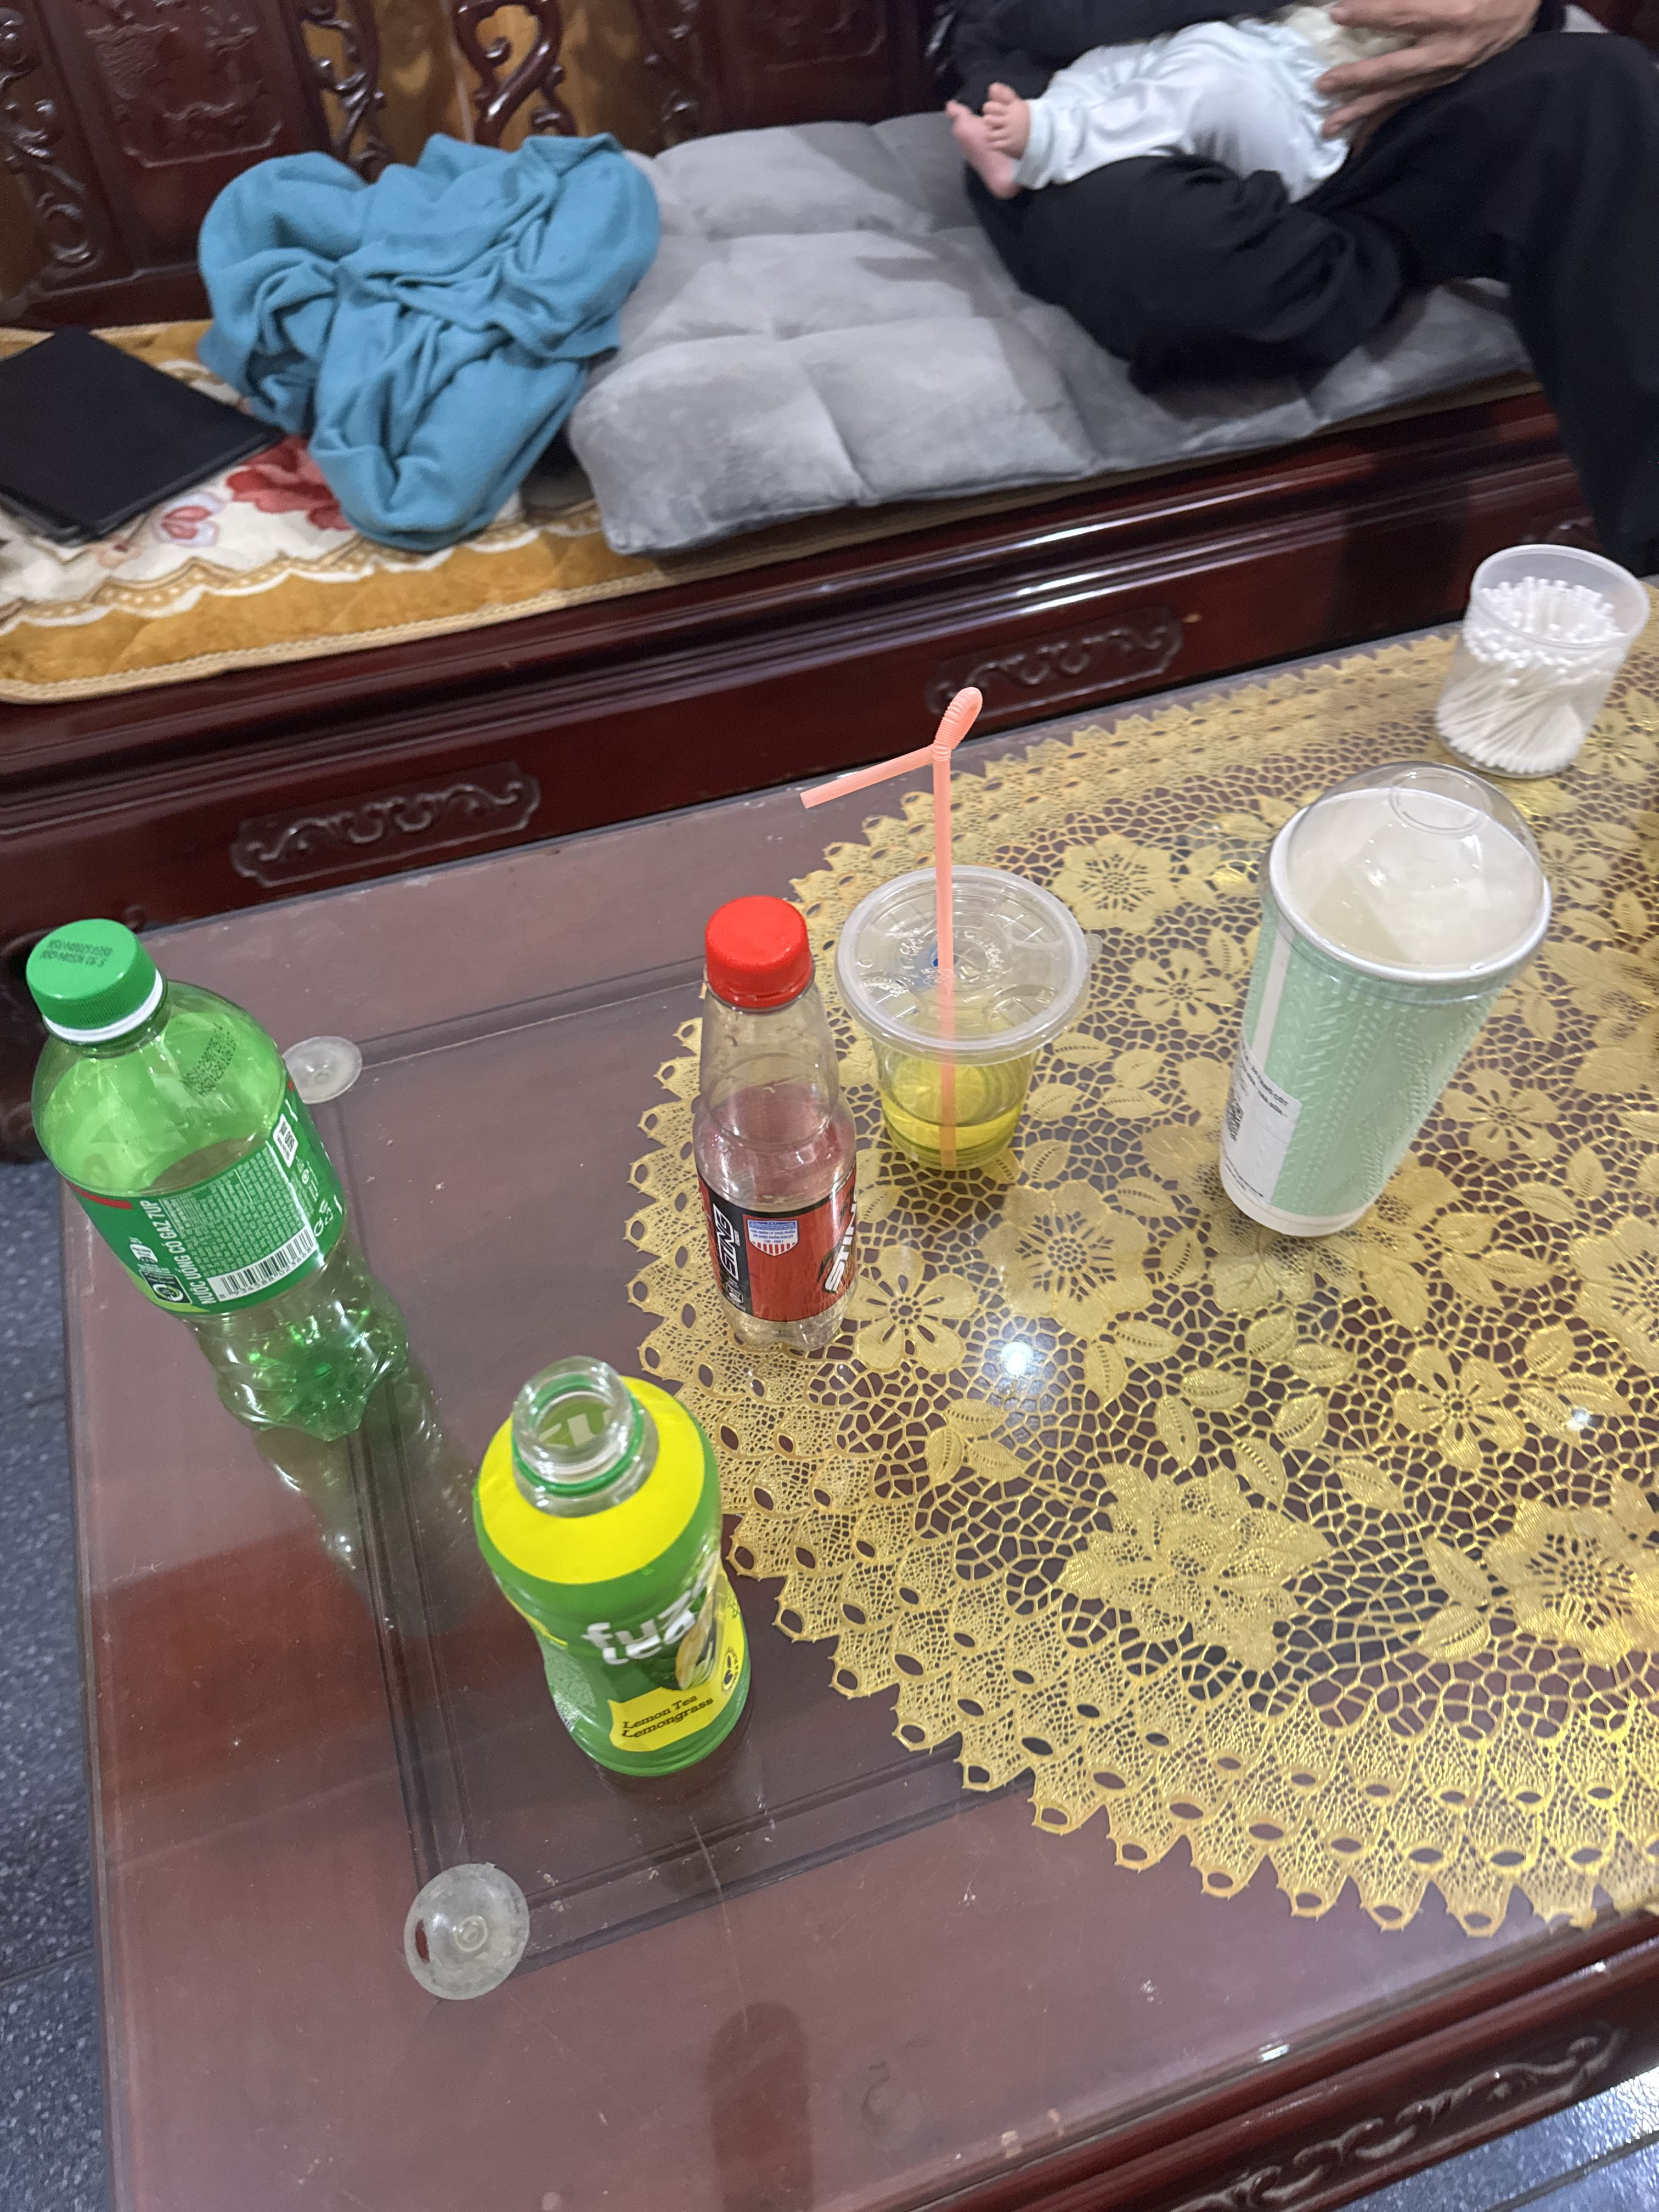bottle: (10, 894, 448, 1449), (418, 1339, 800, 1811), (662, 864, 901, 1372)
cup: (1190, 744, 1579, 1275), (831, 840, 1119, 1205)
